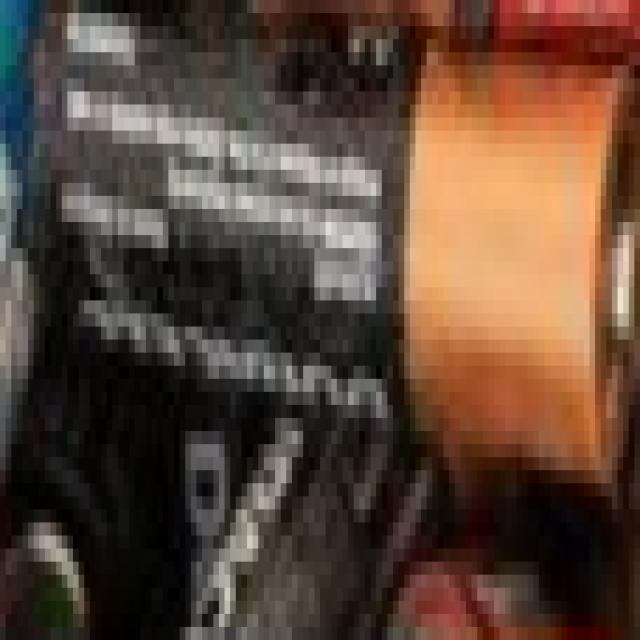battery: (29, 0, 640, 581)
